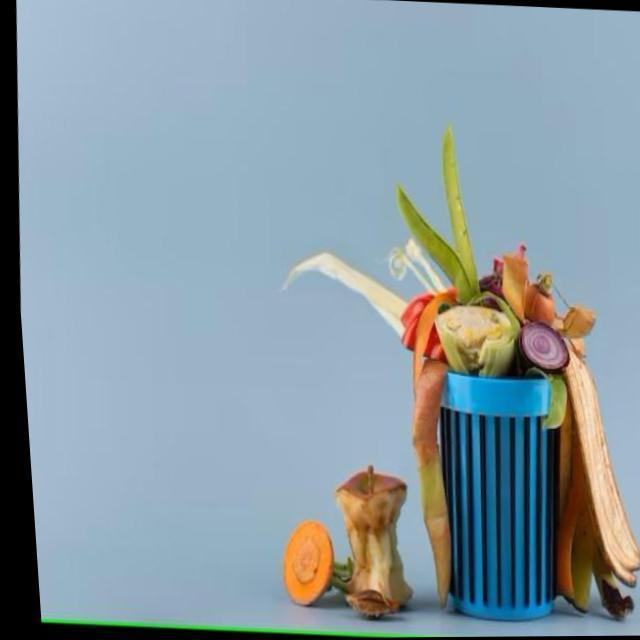Garbage: (280, 127, 633, 618)
